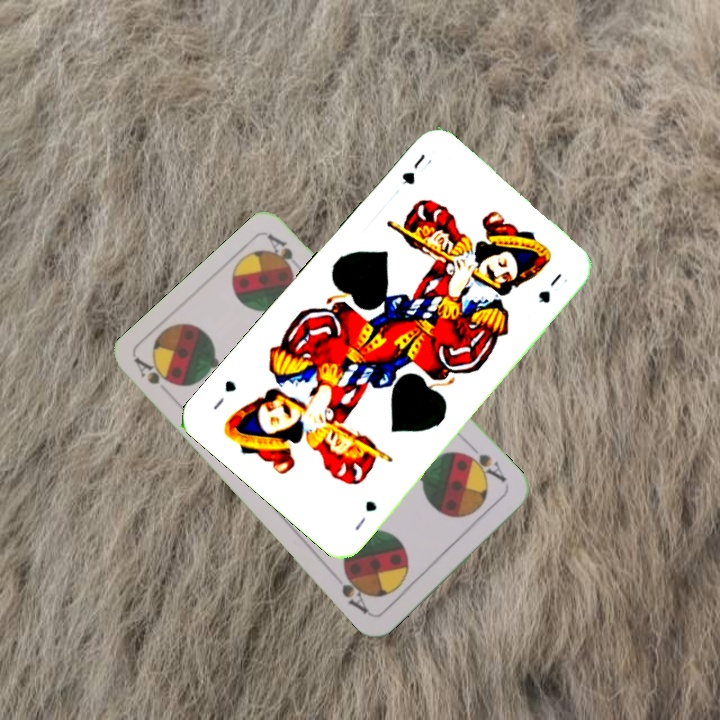GU: (398, 149, 435, 188), (350, 496, 380, 534)
SA: (460, 442, 509, 485), (131, 354, 180, 390)
